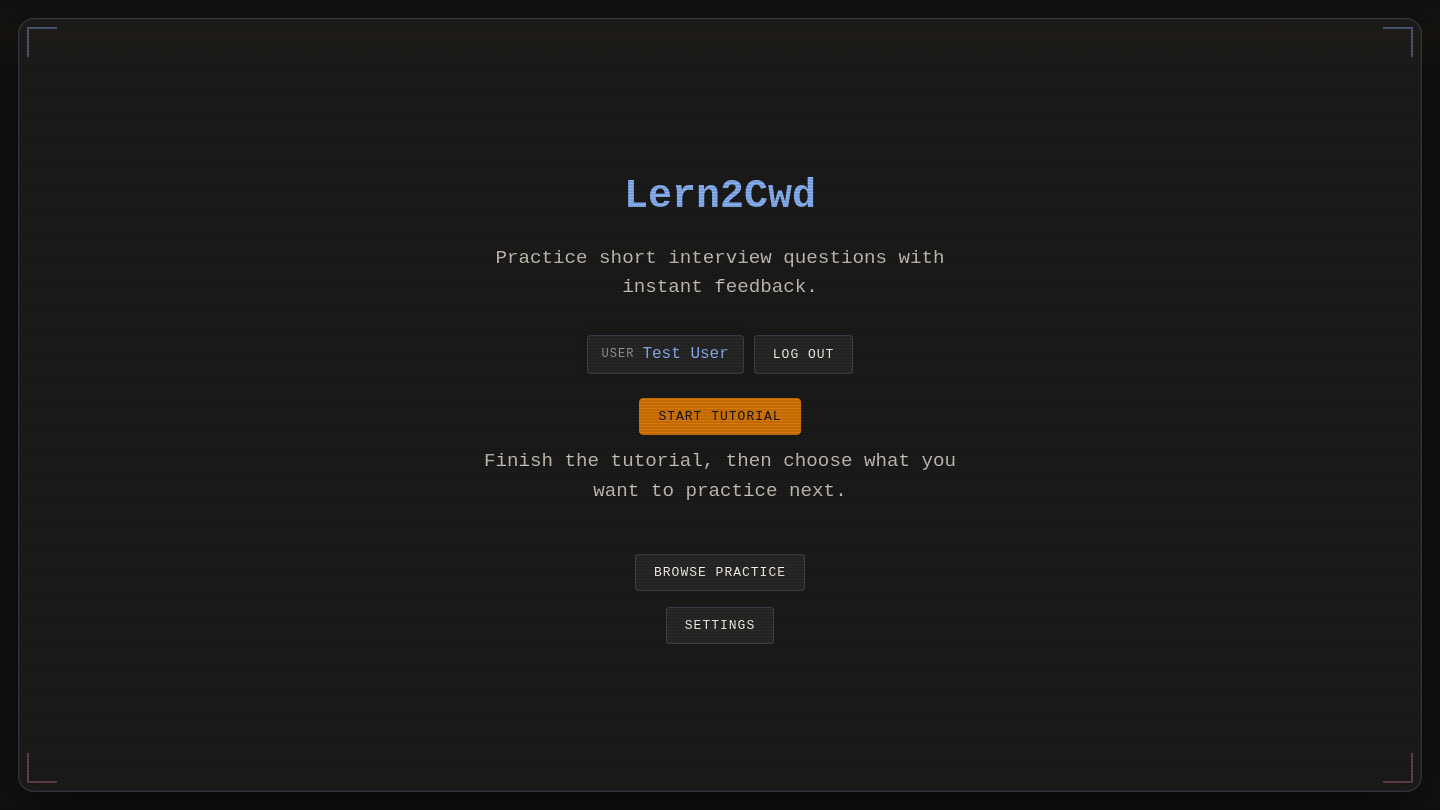
App › toggles between dark and light mode from the top navigation
The image size is (1440, 810).
Click the button with test id "browse-campaign-button".
click(720, 573)  # box [635,554,805,591]
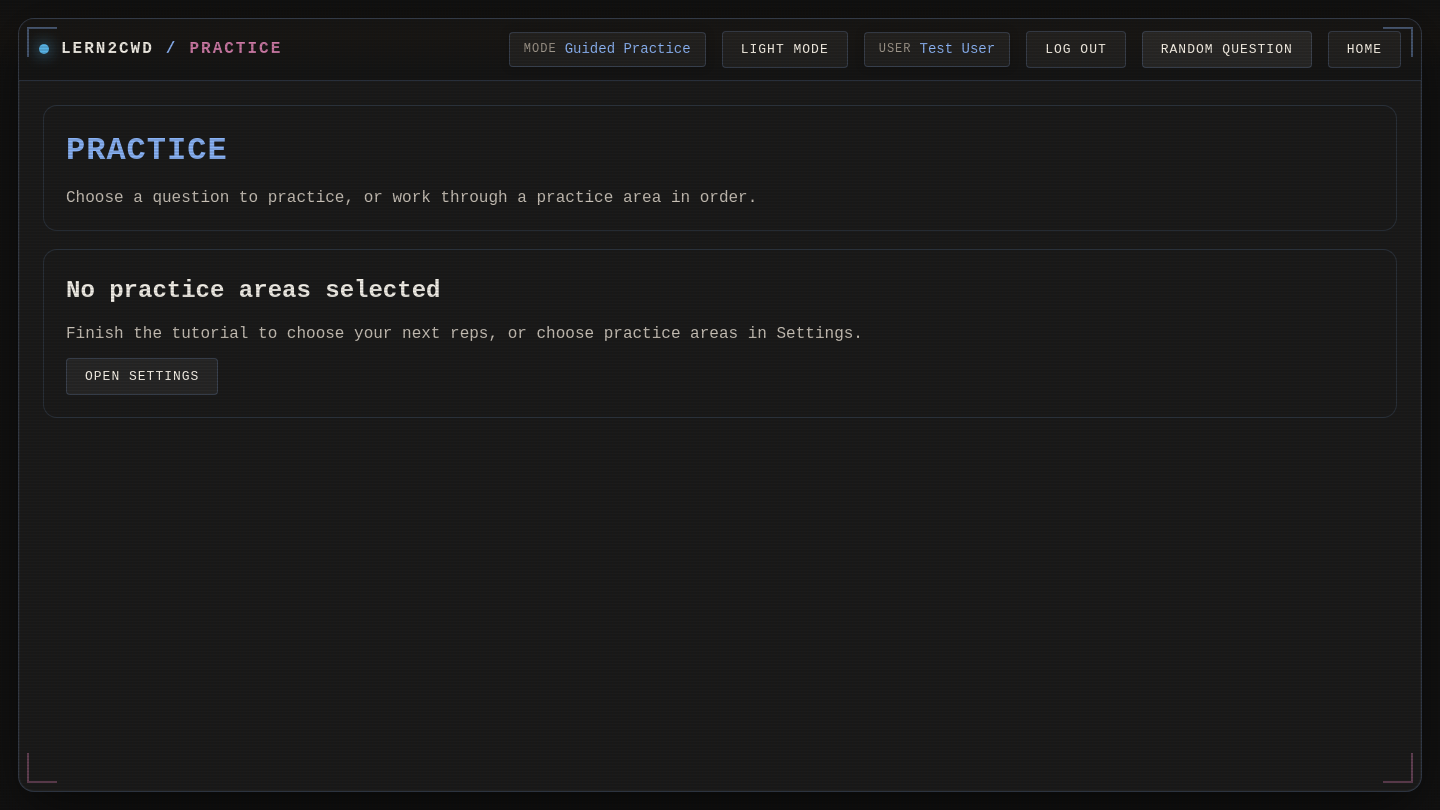
Expected: the element with test id "campaign-view" is shown, [19,19,1421,418]
Click the button "Light Mode".
click(785, 50)  # box [722,31,848,68]
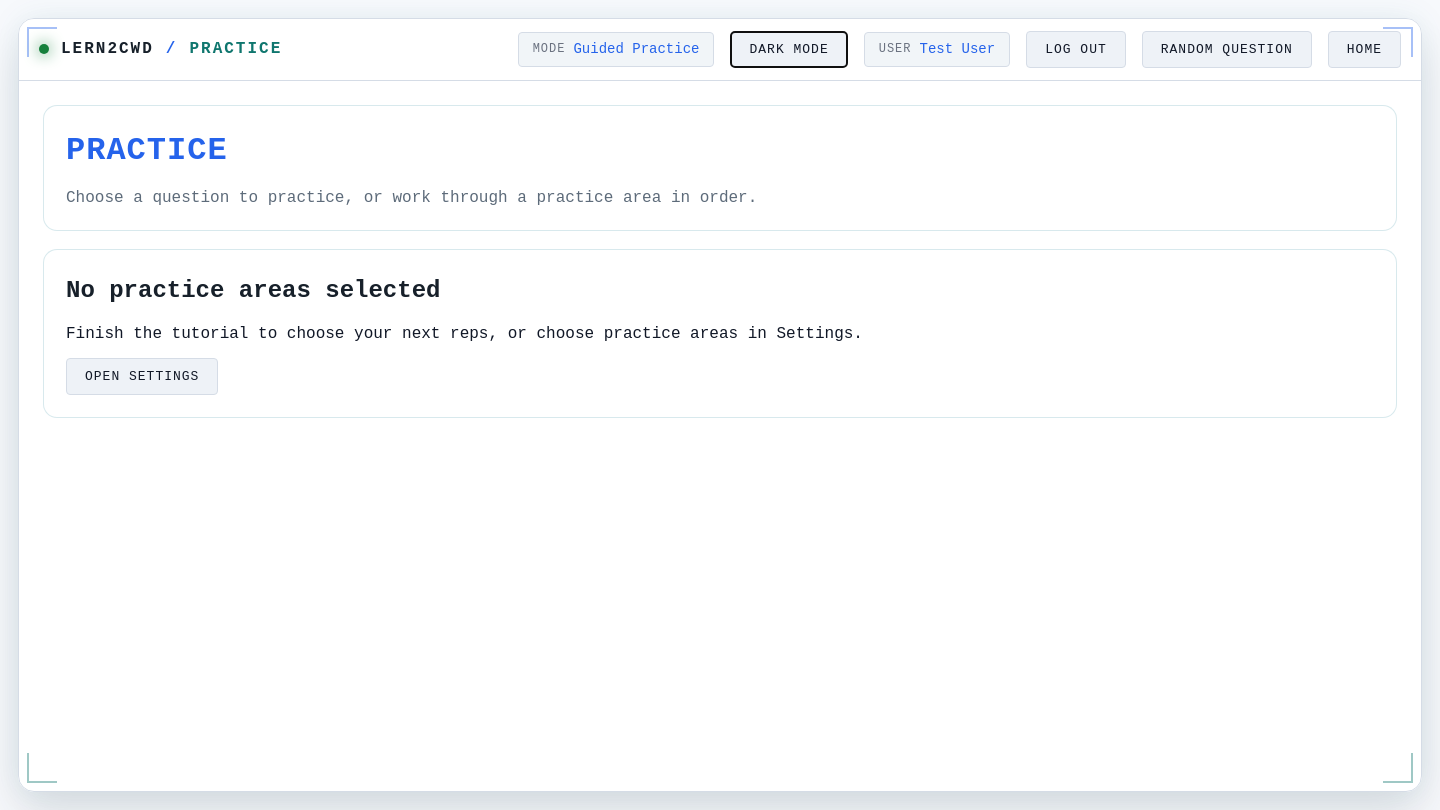
Expected: the button "Dark Mode" is shown, [730,31,848,68]
